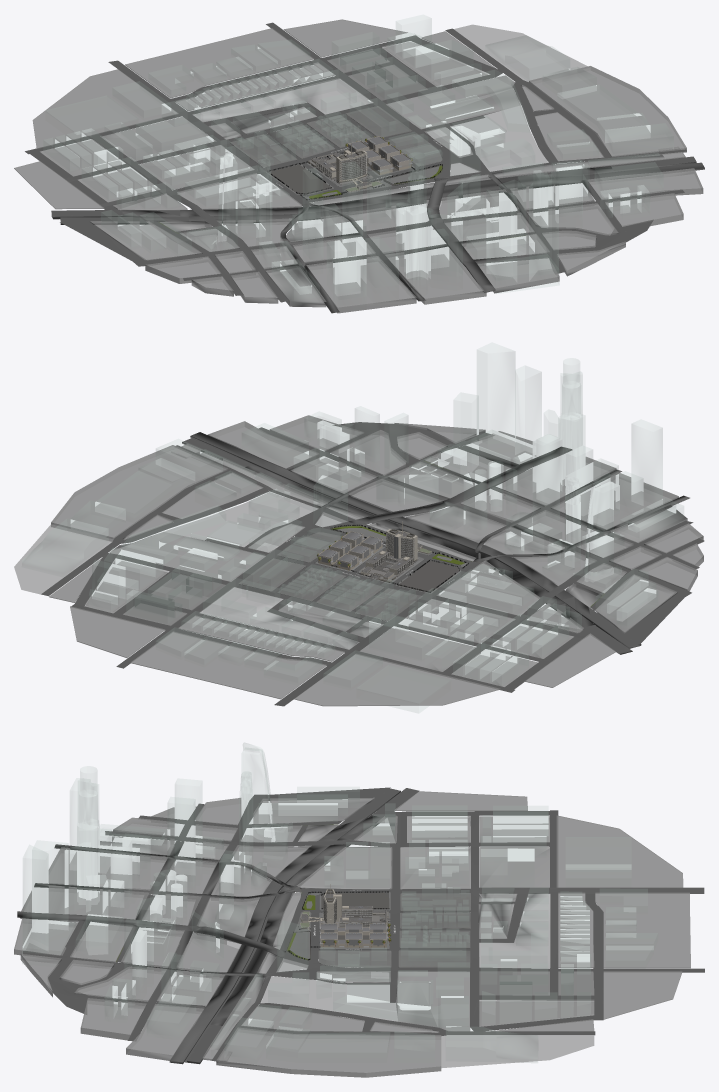
File: entirescenemobile.glb
The picture shows the model from 3 angles, top to bottom: view 1: azimuth 30°, elevation 25°; view 2: azimuth 150°, elevation 25°; view 3: azimuth 270°, elevation 25°; orthographic projection. The views are drawn at different scales.
Parts seen in each view (by area): view 1: transparents sidewalk, transparent buildings newbake, ROAD RAW_.001, HQ sidewalk, roof and walls raw, stages raw.001, frame raw.005, accessory concrete raw.001; view 2: transparents sidewalk, transparent buildings newbake, ROAD RAW_.001, HQ sidewalk, stages raw.001, roof and walls raw, frame raw.005, accessory concrete raw.001; view 3: transparents sidewalk, transparent buildings newbake, ROAD RAW_.001, HQ sidewalk, roof and walls raw, stages raw.001, accessory concrete raw.001.
Part boxes in pixels (x1,y1,x2,y2): transparents sidewalk: (14, 19, 703, 313); transparent buildings newbake: (44, 15, 673, 296); ROAD RAW_.001: (25, 22, 704, 313); HQ sidewalk: (230, 106, 442, 200); roof and walls raw: (312, 137, 409, 192); stages raw.001: (308, 139, 411, 192); frame raw.005: (316, 154, 370, 180); accessory concrete raw.001: (308, 136, 412, 192); transparents sidewalk: (14, 415, 703, 706); transparent buildings newbake: (22, 343, 683, 712); ROAD RAW_.001: (41, 422, 704, 706); HQ sidewalk: (238, 528, 468, 621); stages raw.001: (318, 534, 430, 580); roof and walls raw: (320, 529, 431, 577); frame raw.005: (359, 533, 414, 575); accessory concrete raw.001: (318, 521, 431, 582); transparents sidewalk: (14, 791, 690, 1077); transparent buildings newbake: (22, 743, 657, 1062); ROAD RAW_.001: (17, 787, 704, 1064); HQ sidewalk: (289, 890, 470, 967); roof and walls raw: (300, 889, 386, 943); stages raw.001: (300, 906, 388, 947); accessory concrete raw.001: (301, 884, 388, 945).
Size of the model in its own units: 88.55 by 20.58 by 89.64.
11 materials, 10 textured.
